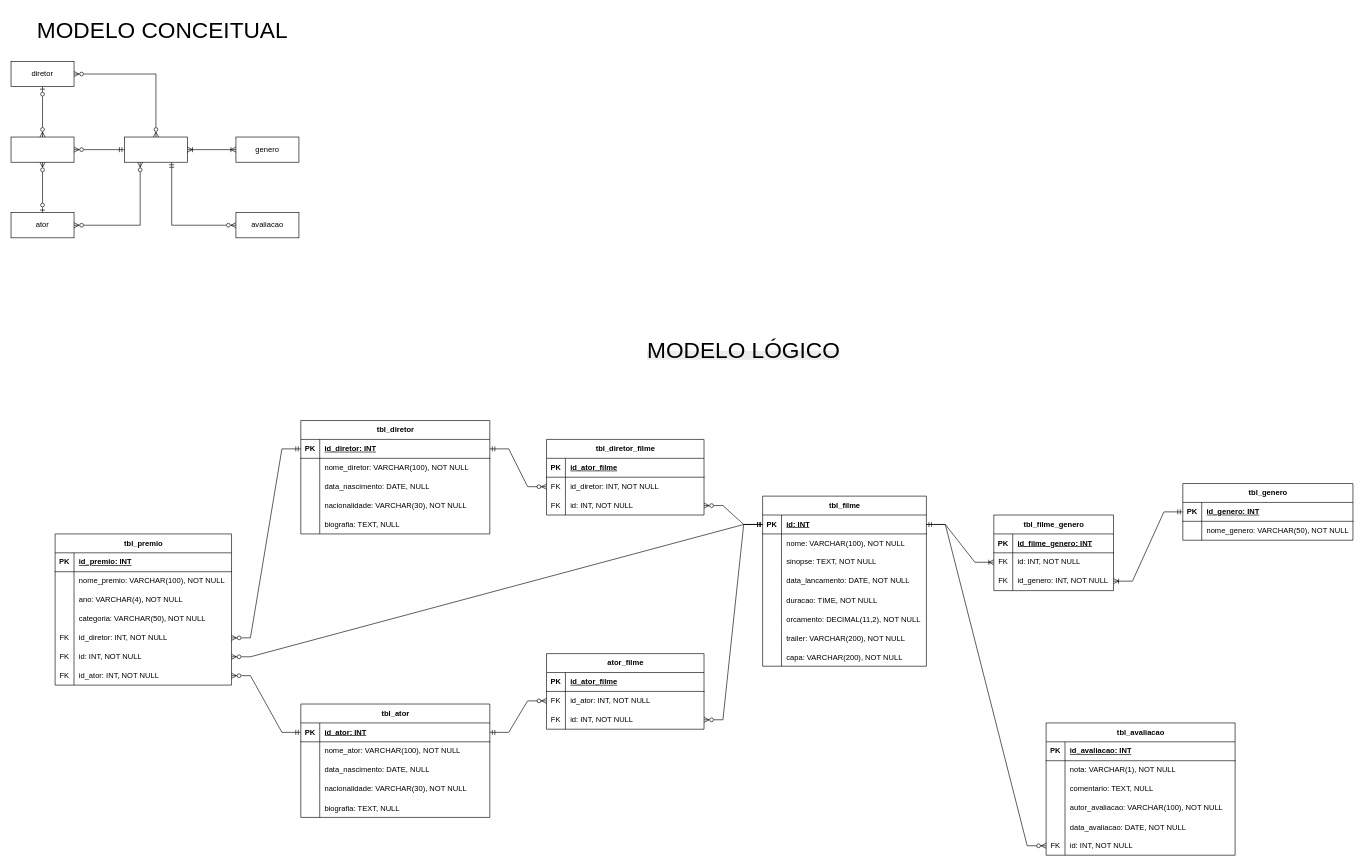
The diagram is 1364 pixels wide and 866 high, and some of its shapes have lost their labels. Each missing label, with the centre of its shape:
"filme" goes at point 155,149.
"premio" goes at point 42,149.
